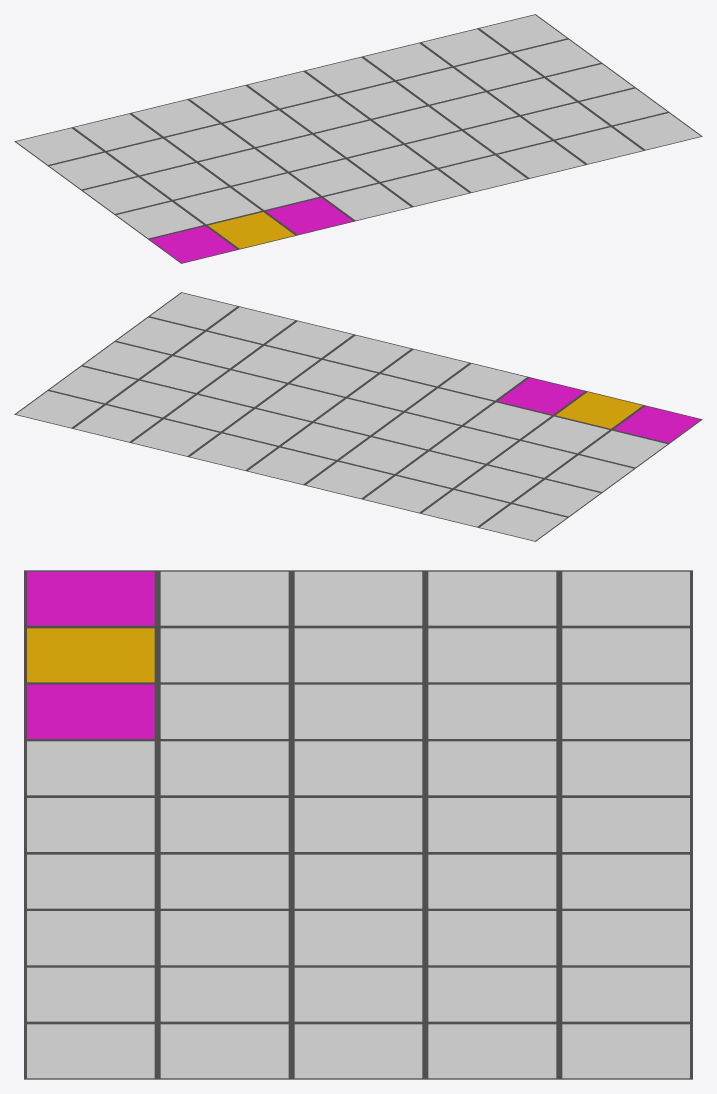
The picture shows the model from 3 angles, top to bottom: view 1: azimuth 30°, elevation 25°; view 2: azimuth 150°, elevation 25°; view 3: azimuth 270°, elevation 25°; orthographic projection. The views are drawn at different scales.
Parts seen in each view (by area): view 1: Plane.001; view 2: Plane.001; view 3: Plane.001.
Boxes of the visible parts, box(x1,y1,x2,y2) form: Plane.001: box(14, 14, 702, 263); Plane.001: box(14, 292, 702, 541); Plane.001: box(24, 570, 692, 1079).
Bounding box in the file's own units: 1381 × 6.04e-05 × 767.
